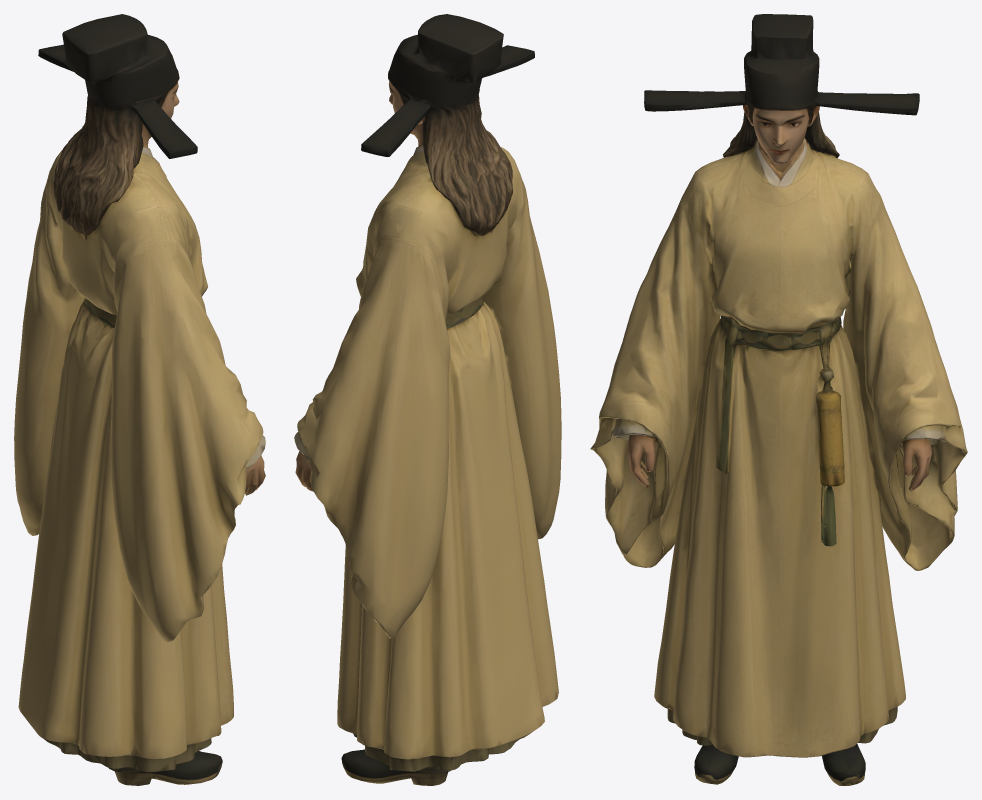
File: envoy-mesh.glb
3 renders of one model, left to right at view 1: azimuth 30°, elevation 25°; view 2: azimuth 150°, elevation 25°; view 3: azimuth 270°, elevation 25°, orthographic.
Visible parts, largest first — view 1: tripo_node_80147732-7c69-4edd-823c-7e91cd75be08; view 2: tripo_node_80147732-7c69-4edd-823c-7e91cd75be08; view 3: tripo_node_80147732-7c69-4edd-823c-7e91cd75be08.
Part boxes in pixels (x1,y1,x2,y2): tripo_node_80147732-7c69-4edd-823c-7e91cd75be08: [14, 14, 265, 785]; tripo_node_80147732-7c69-4edd-823c-7e91cd75be08: [294, 14, 561, 785]; tripo_node_80147732-7c69-4edd-823c-7e91cd75be08: [590, 14, 967, 785].
Bounding box in the file's own units: 0.2513 × 1 × 0.4698.
1 material, 1 textured.
